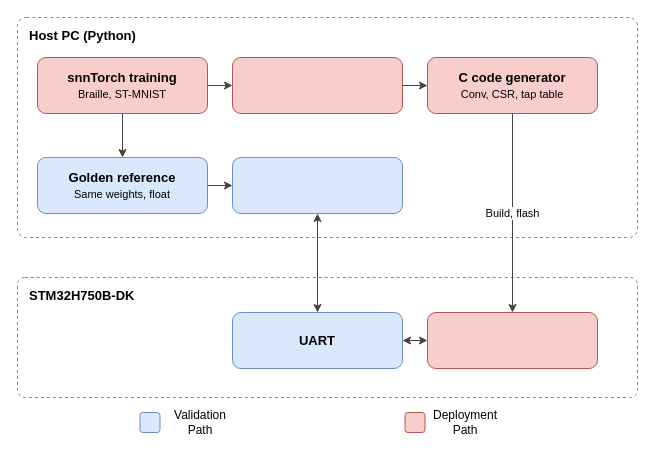
This 655x455 diagram has some shape labels left out. The shapes that lost their labels are listed below. From the top down, each one's centre as x and y in pixels, then its label:
At point 317,85: "NIR graph N etwork parameters".
At point 317,185: "Comparison Accuracy, membrane traces".
At point 512,340: "Inference firmware Q15, DWT cycle count".
